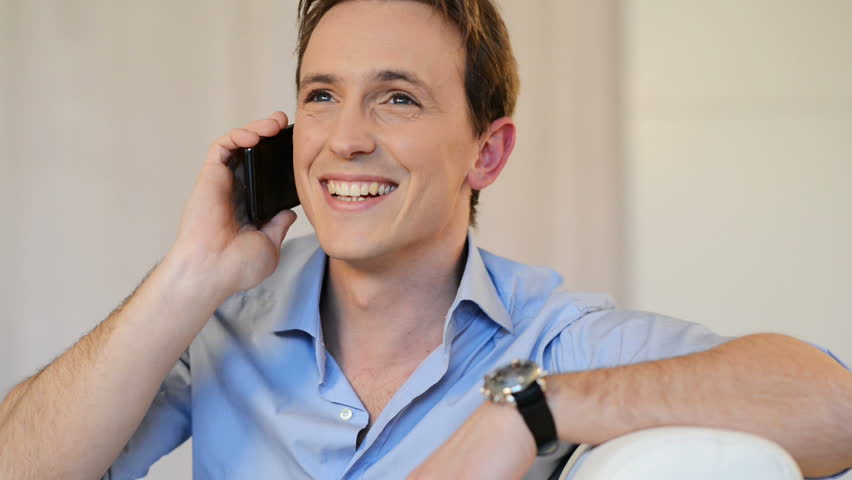phone: (235, 125, 314, 224)
talk: (176, 53, 462, 299)
